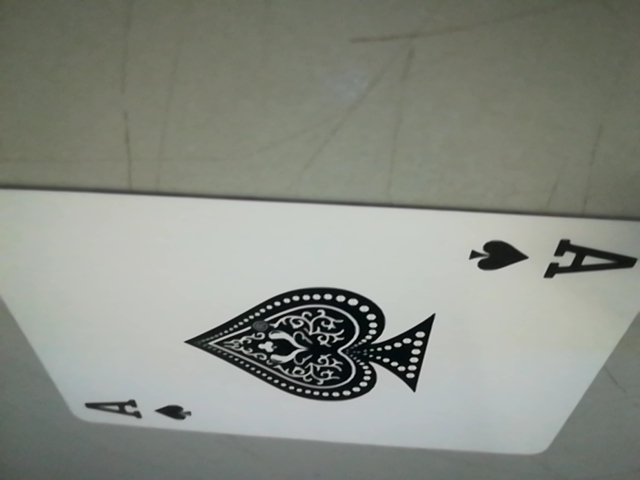ht a: (454, 228, 639, 283)
